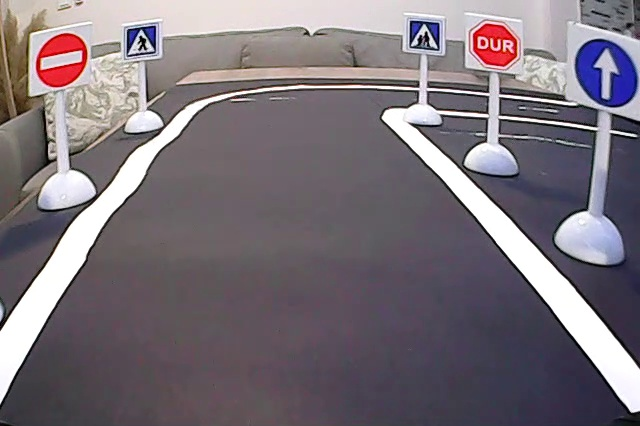do not enter: (32, 29, 92, 92)
pedestrian crossing: (125, 24, 161, 60)
school crossing: (407, 17, 441, 53)
stop sign: (465, 18, 521, 72)
